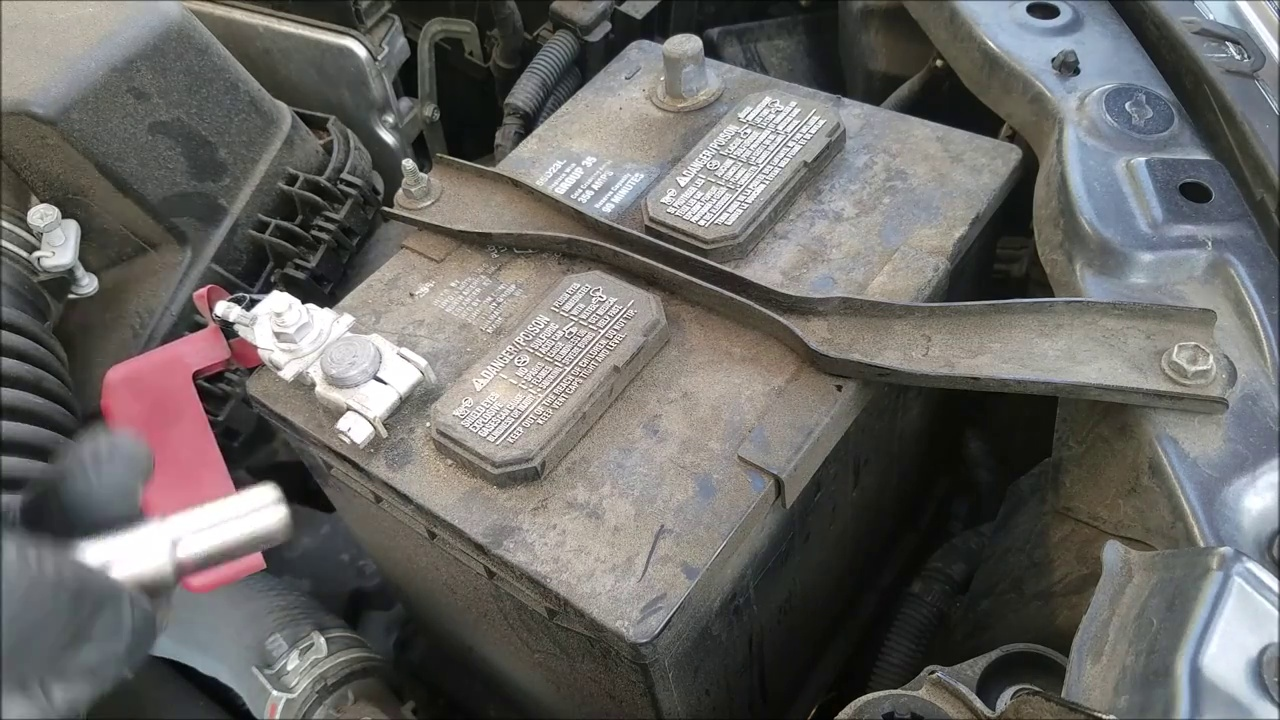battery: (251, 42, 1016, 642)
neg_disconnected: (617, 21, 754, 143)
pos_connected: (104, 289, 409, 509)
